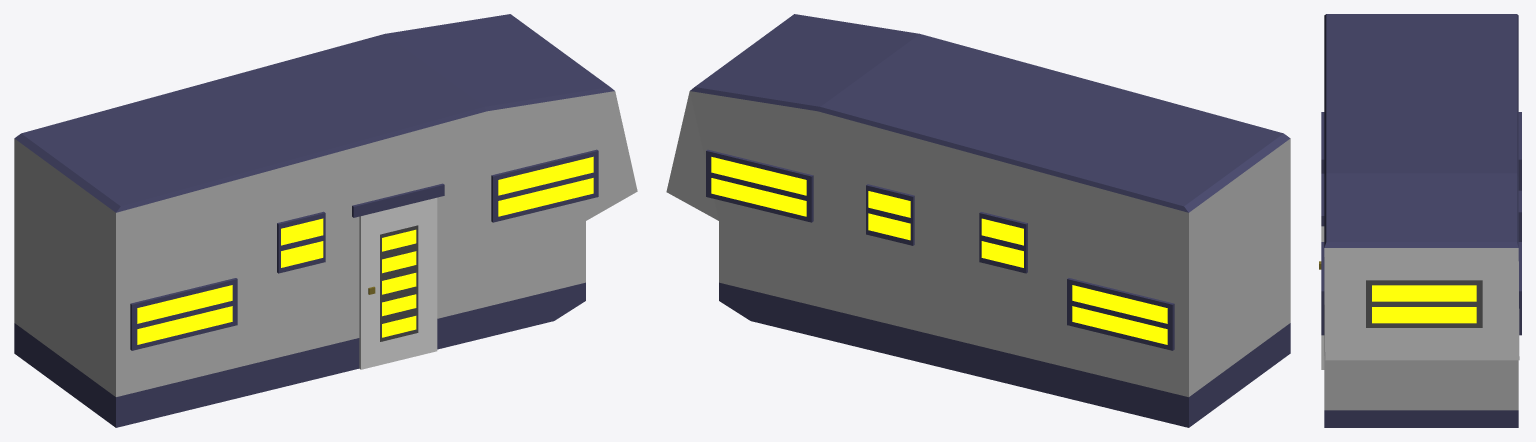
File: trailer2.fbx
3 renders of one model, left to right at view 1: azimuth 30°, elevation 25°; view 2: azimuth 150°, elevation 25°; view 3: azimuth 270°, elevation 25°, orthographic. The views are drawn at different scales.
Parts seen in each view (by area): view 1: Trailer core -col; view 2: Trailer core -col; view 3: Trailer core -col.
Boxes of the visible parts, x1=… form: Trailer core -col: x1=14, y1=14, x2=637, y2=427; Trailer core -col: x1=666, y1=14, x2=1290, y2=427; Trailer core -col: x1=1319, y1=14, x2=1521, y2=427.
Bounding box in the file's own units: 1778 × 749 × 627.
